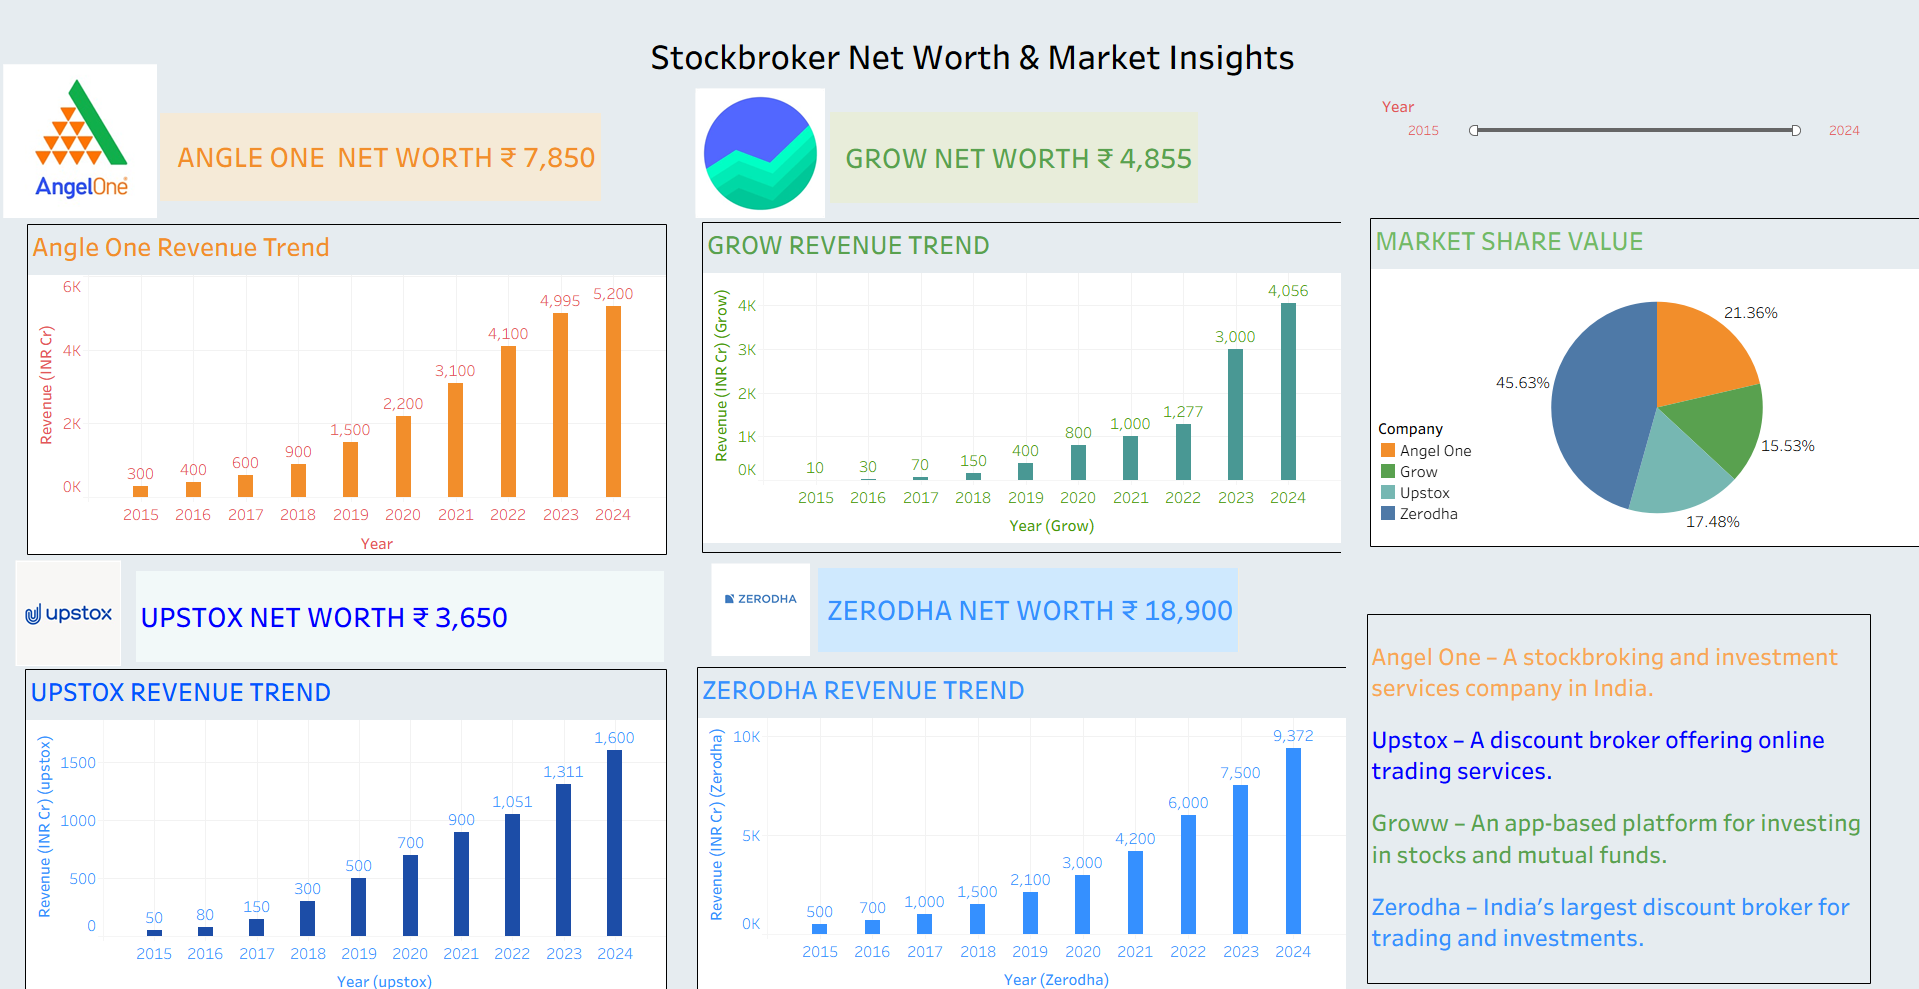

What the dashboard file says about the page in this screenshot:
{"tool":"tableau","page":{"name":"Dashboard 2","canvas":[1000,1000],"units":"permille","ordinal":1},"visuals":[{"type":"text","box":[336.9,4.7,402.5,104.5]},{"type":"image","param":"Image/IMG-20250917-WA0029.jpg","box":[1.6,63.9,80,162.6]},{"type":"image","param":"Image/IMG-20250917-WA0028.jpg","box":[342.7,90.6,106.5,131.2]},{"type":"filter","title":"Sheet 1","param":"[federated.19bdsbw06x80741b1lqpw1bcte57].[none:Year:qk]","box":[720,98.7,263.7,113.8]},{"type":"worksheet","title":"Sheet 5 (2)","mark":"Automatic","box":[432.2,115,221.4,91.8]},{"type":"worksheet","title":"Sheet 5","mark":"Automatic","box":[83.3,116.1,266.1,88.3]},{"type":"worksheet","title":"Sheet 2","mark":"Bar","rows":["Revenue (INR Cr) (Grow)"],"cols":["Year (Grow)"],"box":[365.5,225.3,333.2,333.3]},{"type":"worksheet","title":"Sheet 1","mark":"Bar","rows":["Revenue (INR Cr)"],"cols":["Year"],"box":[14.3,227.6,333.2,333.3]},{"type":"legend","title":"Sheet 6","param":"[federated.19bdsbw06x80741b1lqpw1bcte57].[none:Company:nk]","box":[717.6,422.8,83.9,123.1]},{"type":"image","param":"Image/4a8fc04a855b4e7a968e268b08543958.jpg","box":[326.5,569.1,138.8,94.1]},{"type":"worksheet","title":"Sheet 5 (4)","mark":"Automatic","box":[426.1,573.8,254.1,84.8]},{"type":"worksheet","title":"Sheet 5 (3)","mark":"Automatic","box":[70.6,577.2,275.2,91.8]},{"type":"text","box":[712.1,620.2,262.5,372.8]}]}

Visuals, with their boxes on the dashboard's canvas, which has no fixed pixel size, in thousandths of its width and height (x1, y1, x2, y2). These are canvas units, not pixel positions in the 1919x989 screenshot, which may show the page scaled, cropped or inside an application window:
text: 337 5 739 109
image: 2 64 82 226
image: 343 91 449 222
"Sheet 1" filter: 720 99 984 212
"Sheet 5 (2)" worksheet: 432 115 654 207
"Sheet 5" worksheet: 83 116 349 204
"Sheet 2" worksheet (Bar marks): 366 225 699 559
"Sheet 1" worksheet (Bar marks): 14 228 348 561
"Sheet 6" legend: 718 423 802 546
image: 326 569 465 663
"Sheet 5 (4)" worksheet: 426 574 680 659
"Sheet 5 (3)" worksheet: 71 577 346 669
text: 712 620 975 993
